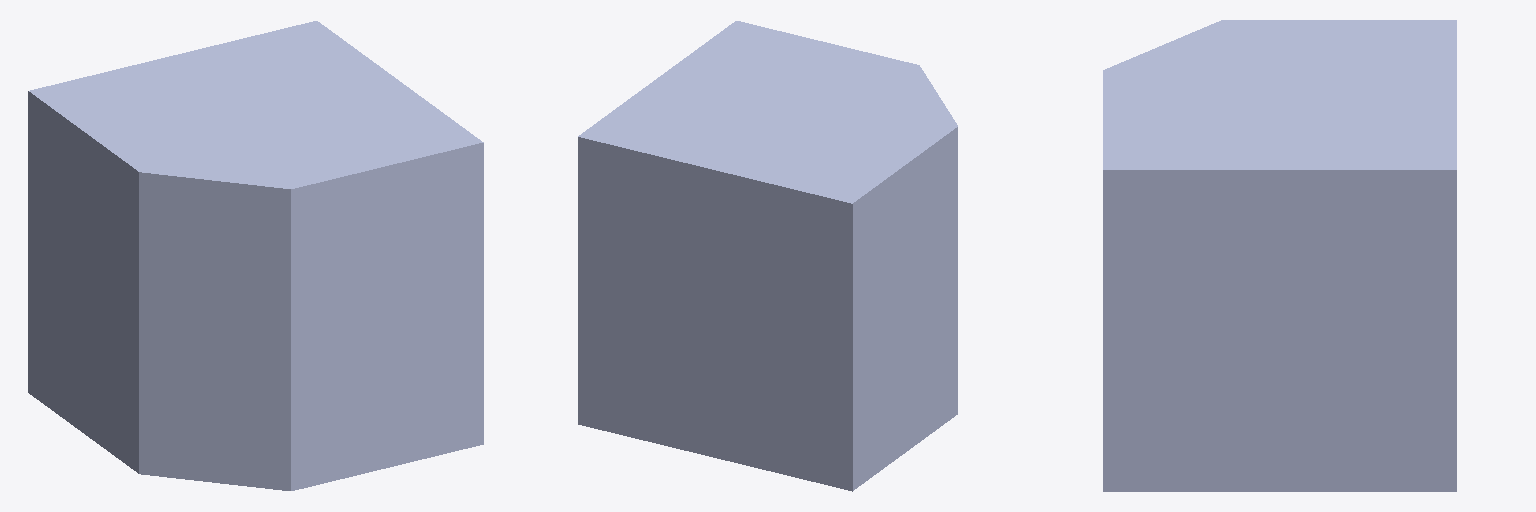
robot.urdf — Box7:
<?xml version="1.0" encoding="utf-8"?>
<!-- This URDF was automatically created by SolidWorks to URDF Exporter! Originally created by [author] ([email redacted]) 
     Commit Version: 1.6.0-1-g15f4949  Build Version: 1.6.7594.29634
     For more information, please see http://wiki.ros.org/sw_urdf_exporter -->
<robot
  name="Box7">
  <link
    name="base_link">
    <inertial>
      <origin
        xyz="-0.0784313725490196 -0.0715686274509804 0.075"
        rpy="0 0 0" />
      <mass
        value="3.1875" />
      <inertia
        ixx="0.0116030943627451"
        ixy="-0.000662530637254902"
        ixz="-5.29395592033937E-20"
        iyy="0.0116030943627451"
        iyz="1.58818677610181E-19"
        izz="0.0112530637254902" />
    </inertial>
    <visual>
      <origin
        xyz="0 0 0"
        rpy="0 0 0" />
      <geometry>
        <mesh
          filename="package://Box7/meshes/base_link.STL" />
      </geometry>
      <material
        name="">
        <color
          rgba="0.792156862745098 0.819607843137255 0.933333333333333 1" />
      </material>
    </visual>
    <collision>
      <origin
        xyz="0 0 0"
        rpy="0 0 0" />
      <geometry>
        <mesh
          filename="package://Box7/meshes/base_link.STL" />
      </geometry>
    </collision>
  </link>
</robot>

--- Facts derived from the render (not from the file) ---
The picture shows the robot from 3 angles, left to right: view 1: azimuth 30°, elevation 25°; view 2: azimuth 150°, elevation 25°; view 3: azimuth 270°, elevation 25°; orthographic projection.
Model Box7 with 1 links and 0 joints (none), rooted at base_link, posed all joints at 0.
Links seen in each view (by area): view 1: base_link; view 2: base_link; view 3: base_link.
Boxes of the visible links, x1,y1,x2,y2 form: base_link: [28, 21, 483, 490]; base_link: [578, 21, 957, 491]; base_link: [1103, 20, 1456, 491].
Bounding box of the posed robot: 0.15 × 0.15 × 0.15 m (x, y, z).
1 mesh visuals loaded from 1 distinct referenced files (1 binary STL).